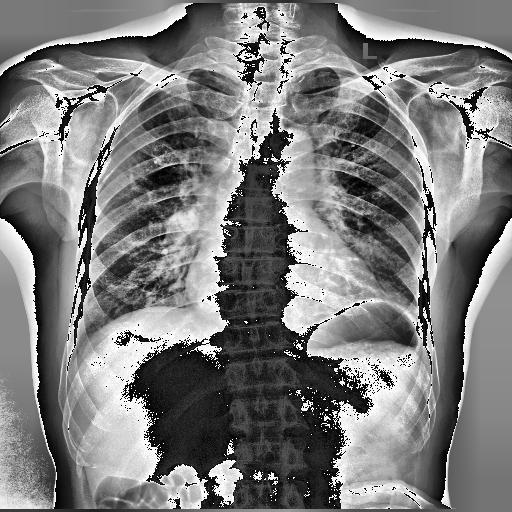0- Aortic enlargement: (266, 126, 314, 168)
11- Pleural thickening: (150, 74, 190, 90)
3- Cardiomegaly: (183, 270, 391, 333), (186, 254, 386, 316)
